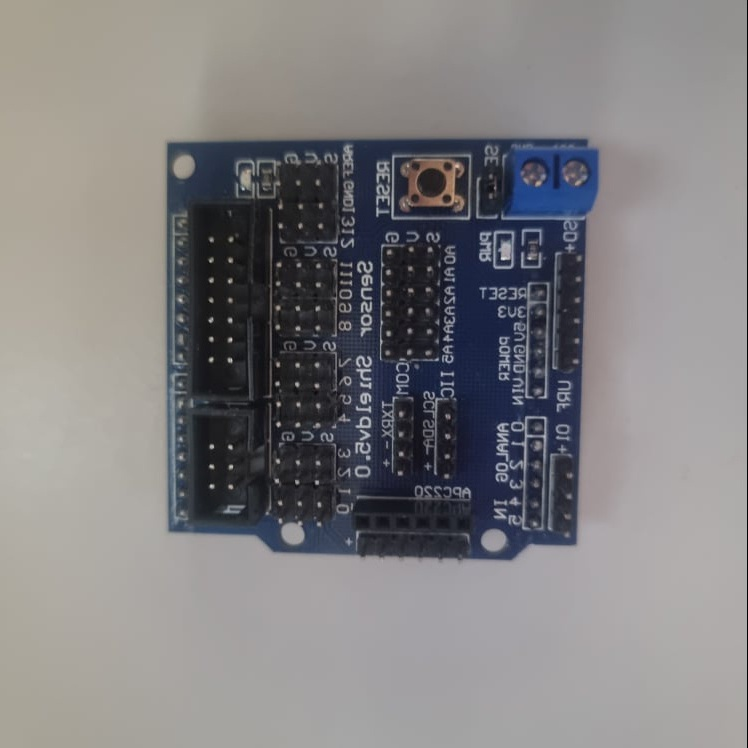5V EXPANSION: (166, 138, 601, 565)
